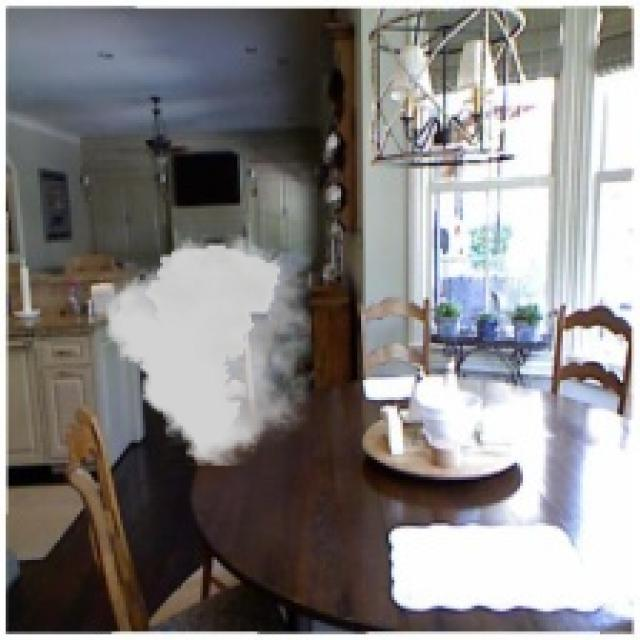smoke: (106, 234, 311, 466)
